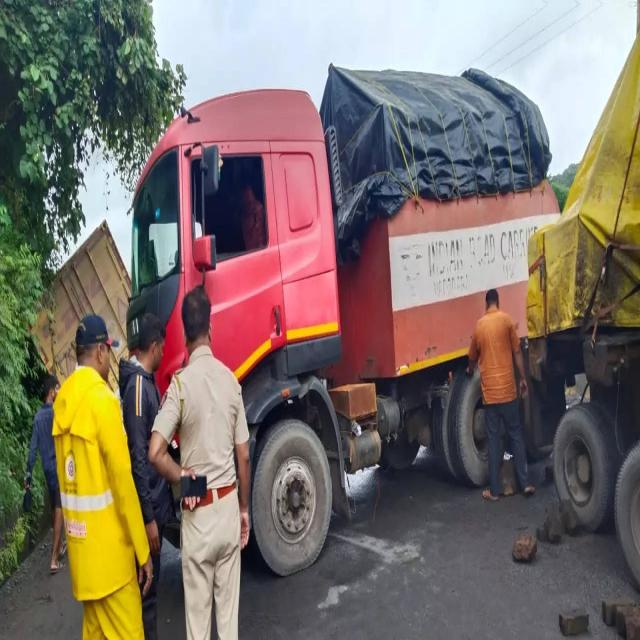truck: (126, 67, 558, 573)
